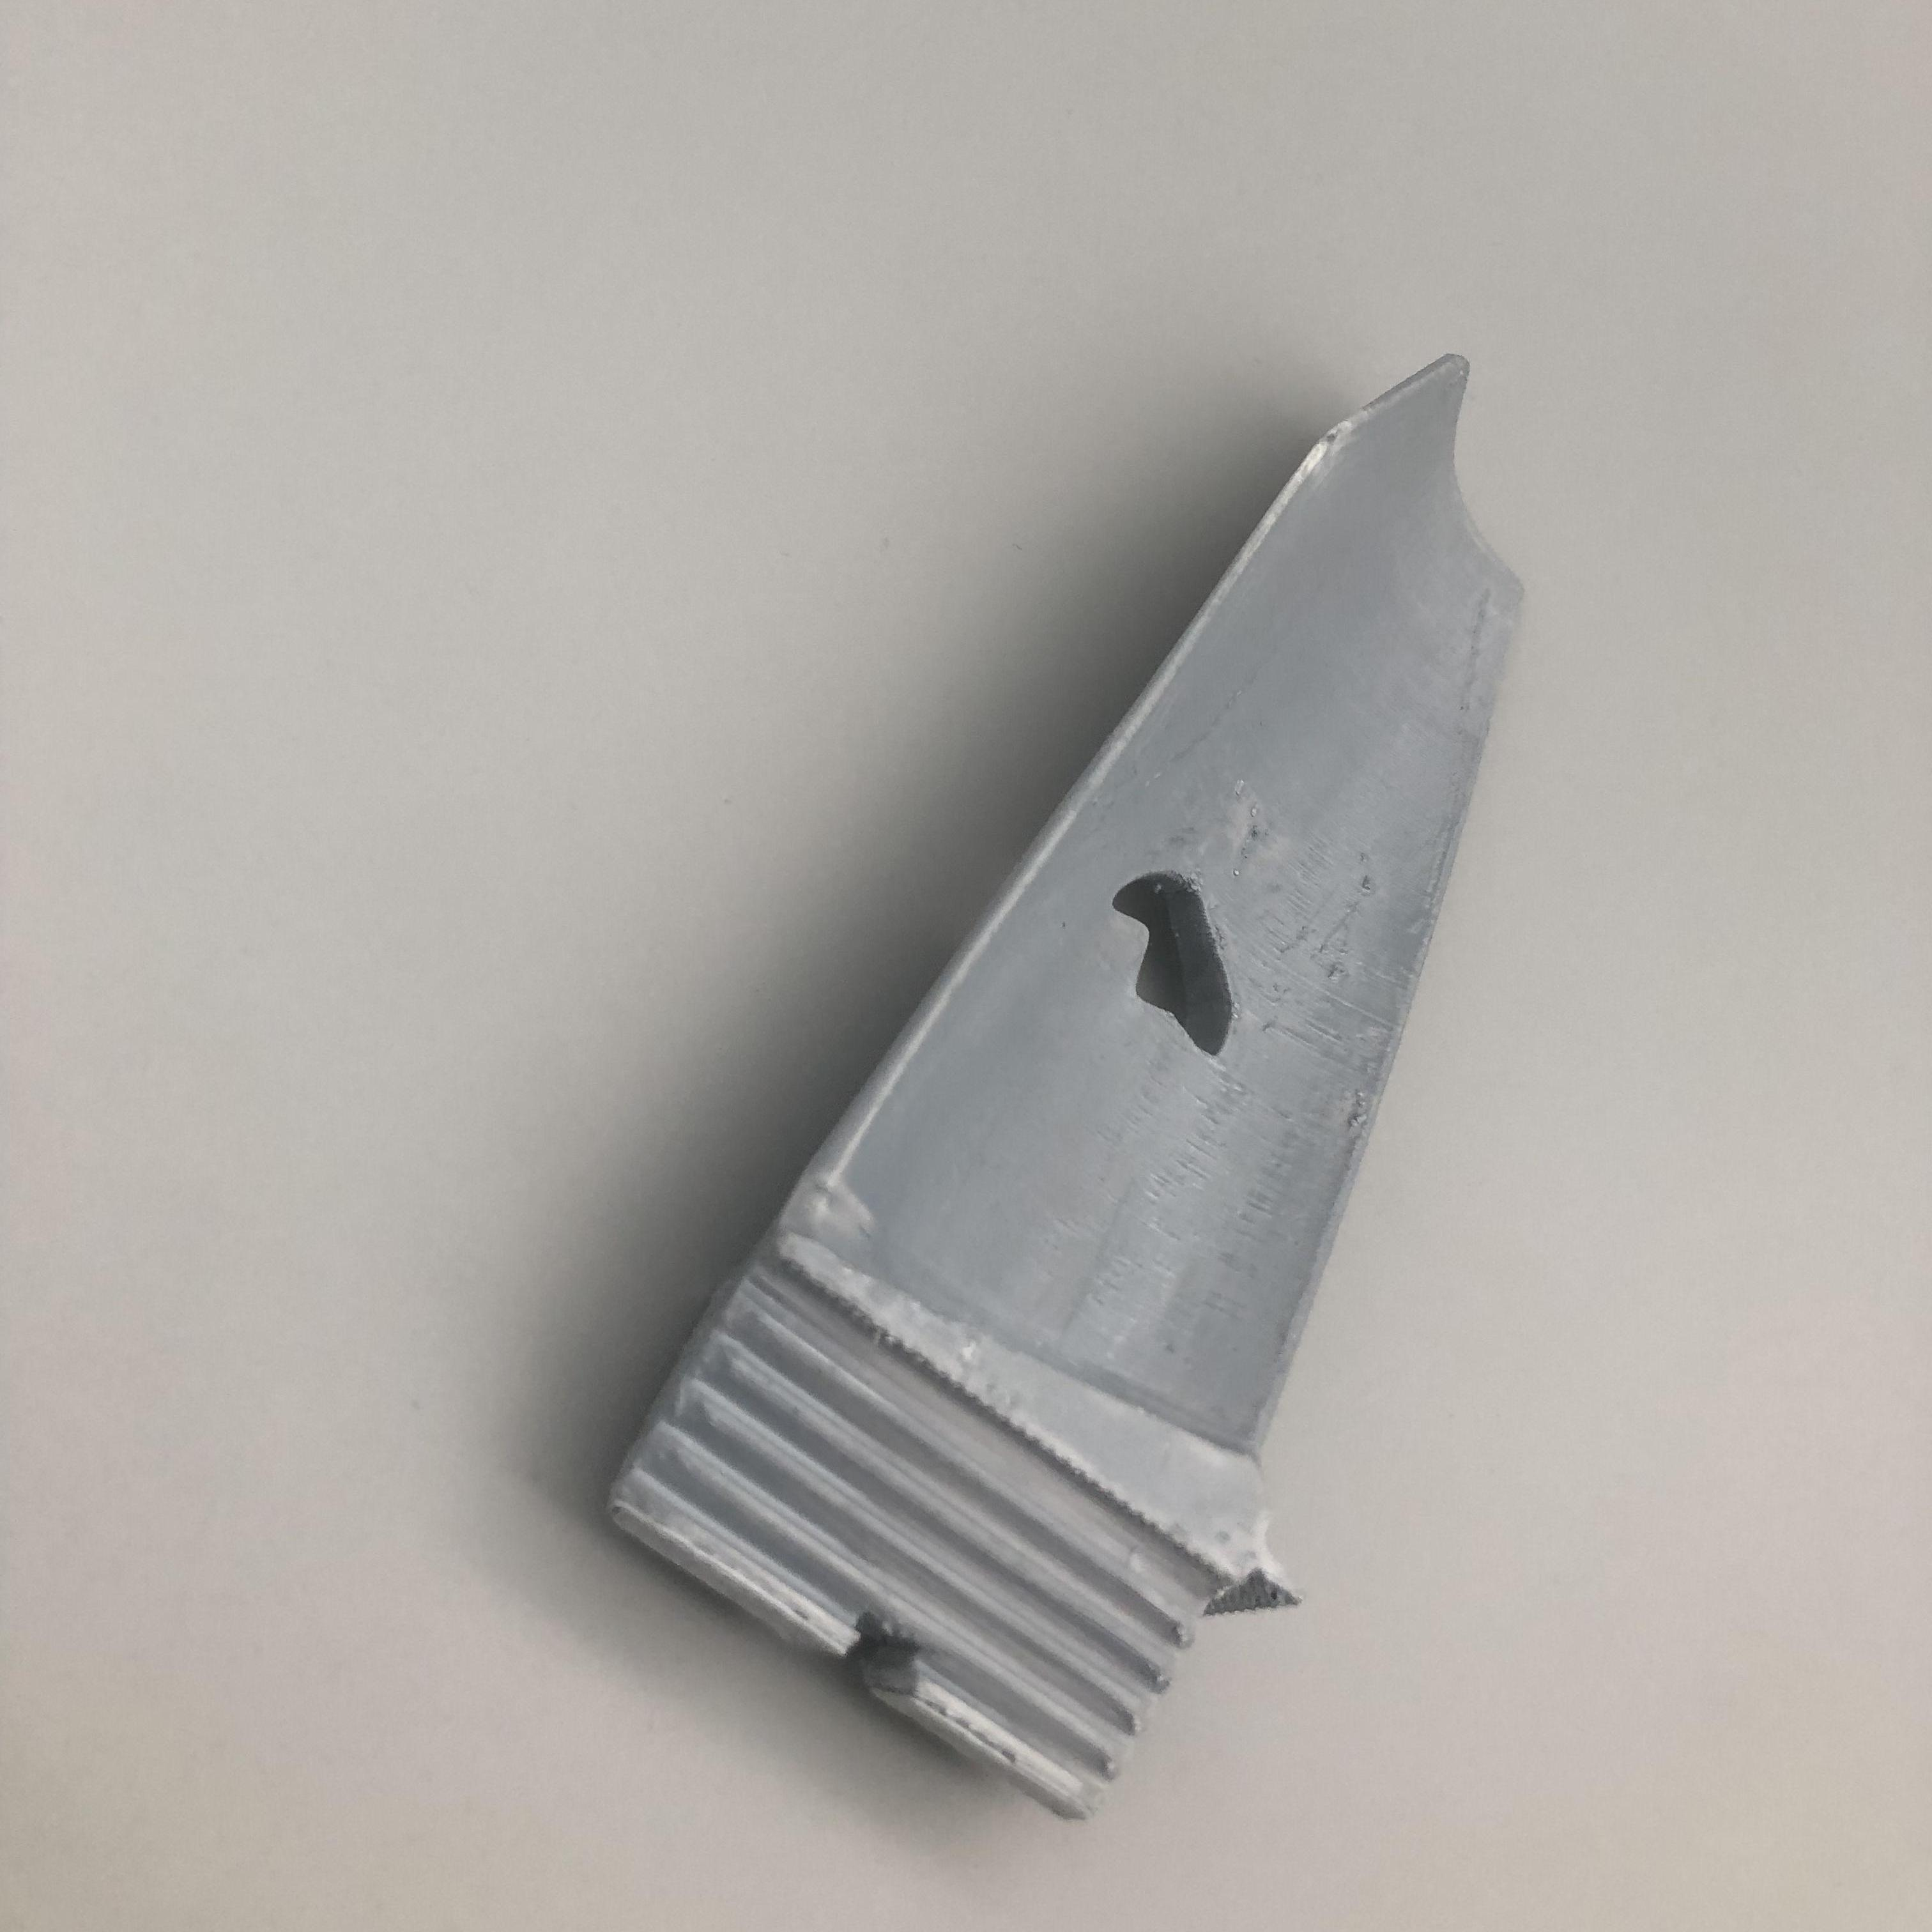breakdown: (1097, 860, 1284, 1067)
